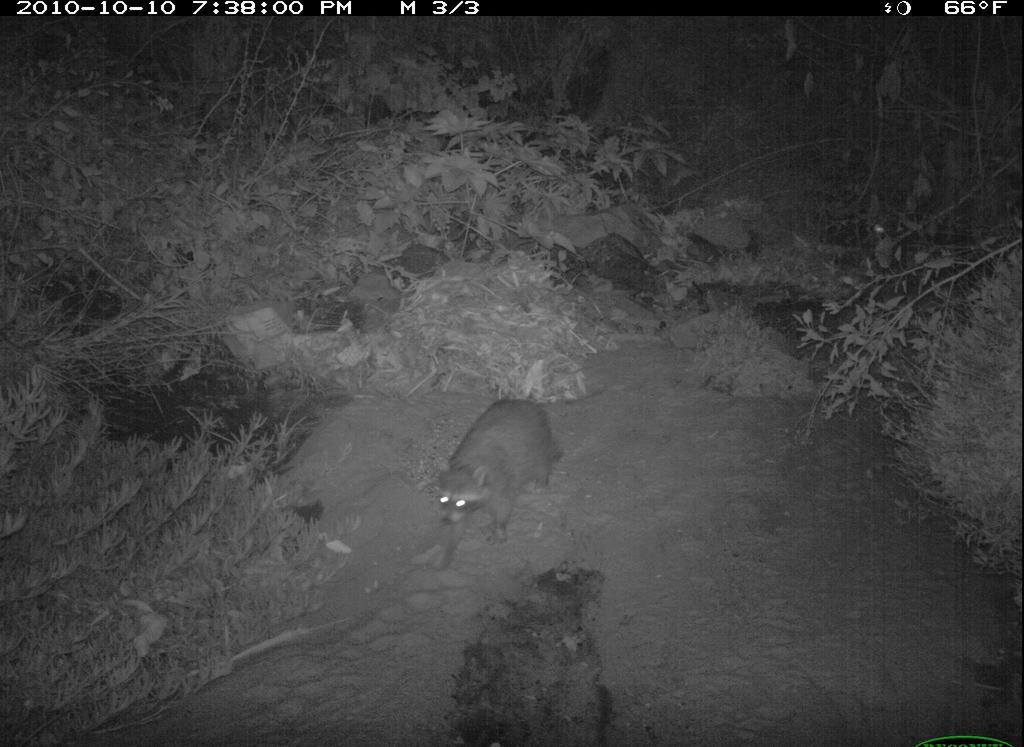raccoon: (419, 392, 570, 584)
